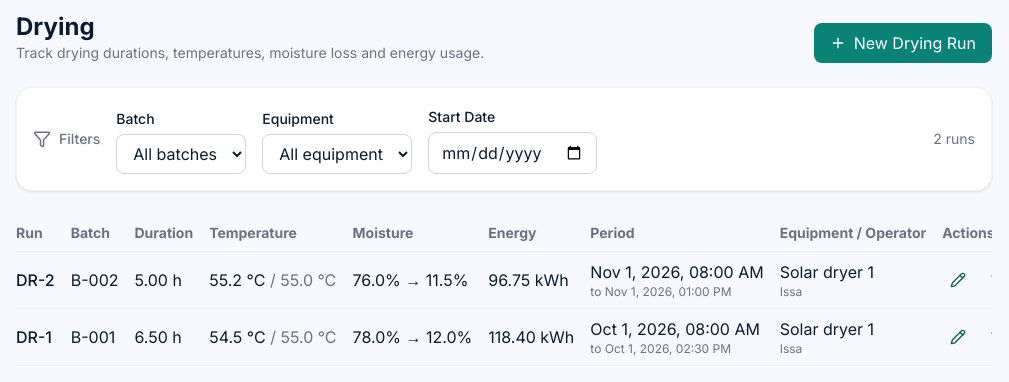
Scenario: DryingRunList › shows the run count and the empty state of a filter without match
Check: the text "DR-1" is shown, box x1=16 y1=308 x2=71 y2=366
Check: the text "2 runs" is shown, box x1=933 y1=129 x2=975 y2=149
Type "2025-01-01" into the date field named "Filter by start date".
click(513, 153); type("2025-01-01")  # box x1=428 y1=132 x2=597 y2=174
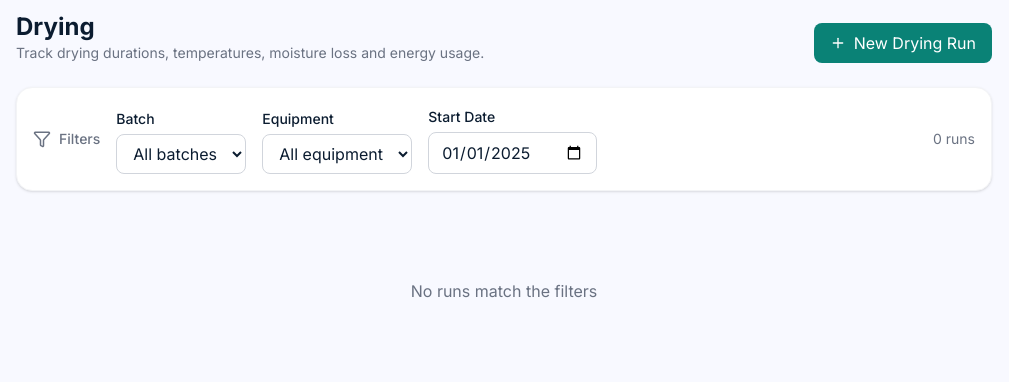
Check: the text "No runs match the filters" is shown, box x1=411 y1=279 x2=597 y2=303
Check: the text "0 runs" is shown, box x1=933 y1=129 x2=975 y2=149
